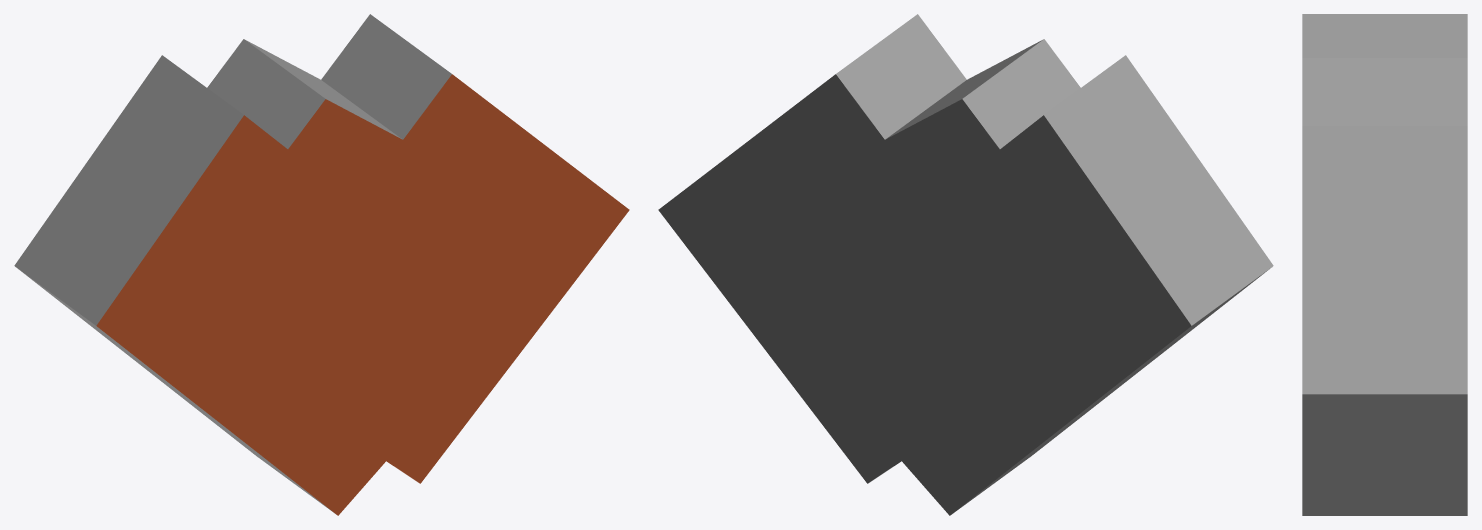
Rendered from construction_0203_assumed_A_Casa_h6m.obj.
The picture shows the model from 3 angles, left to right: view 1: azimuth 30°, elevation 25°; view 2: azimuth 150°, elevation 25°; view 3: azimuth 270°, elevation 25°; orthographic projection.
Visible parts, largest first — view 1: construction_0203_assumed_A_Casa; view 2: construction_0203_assumed_A_Casa; view 3: construction_0203_assumed_A_Casa.
Boxes of the visible parts, x1,y1,x2,y2 form: construction_0203_assumed_A_Casa: (14,14,629,515); construction_0203_assumed_A_Casa: (658,14,1273,515); construction_0203_assumed_A_Casa: (1302,14,1467,515).
Size of the model in its own units: 22.52 by 17.1 by 6.
